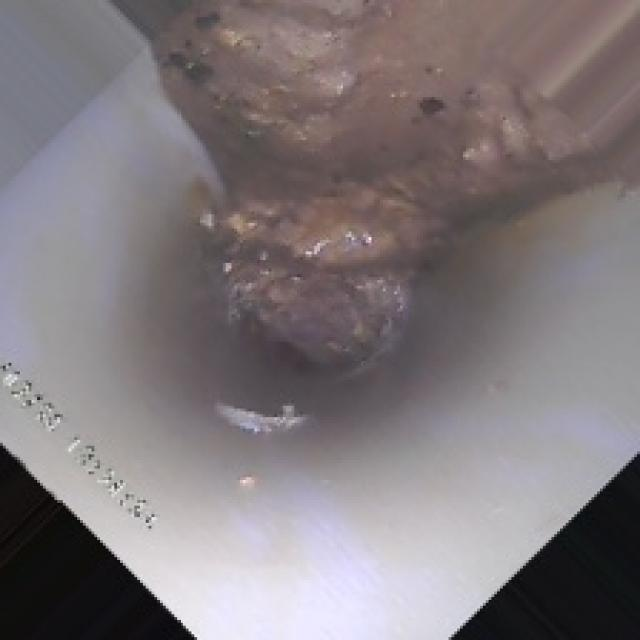sluge accumulation: (154, 6, 623, 340)
